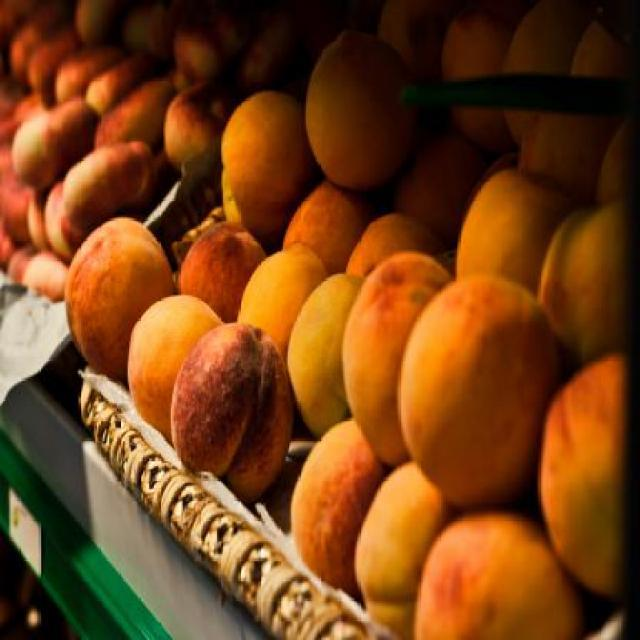Peach: (61, 0, 638, 638)
